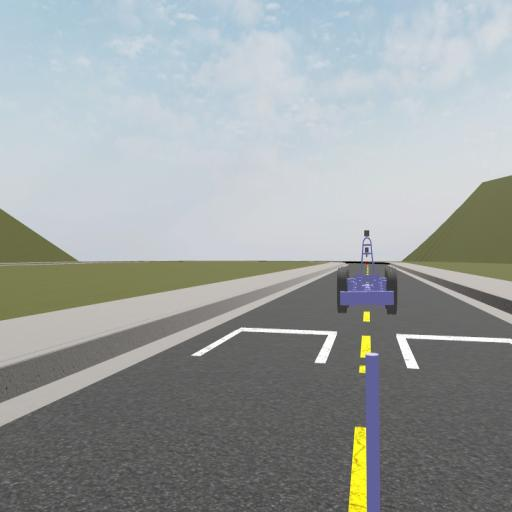ERP-42: (335, 230, 397, 314)
